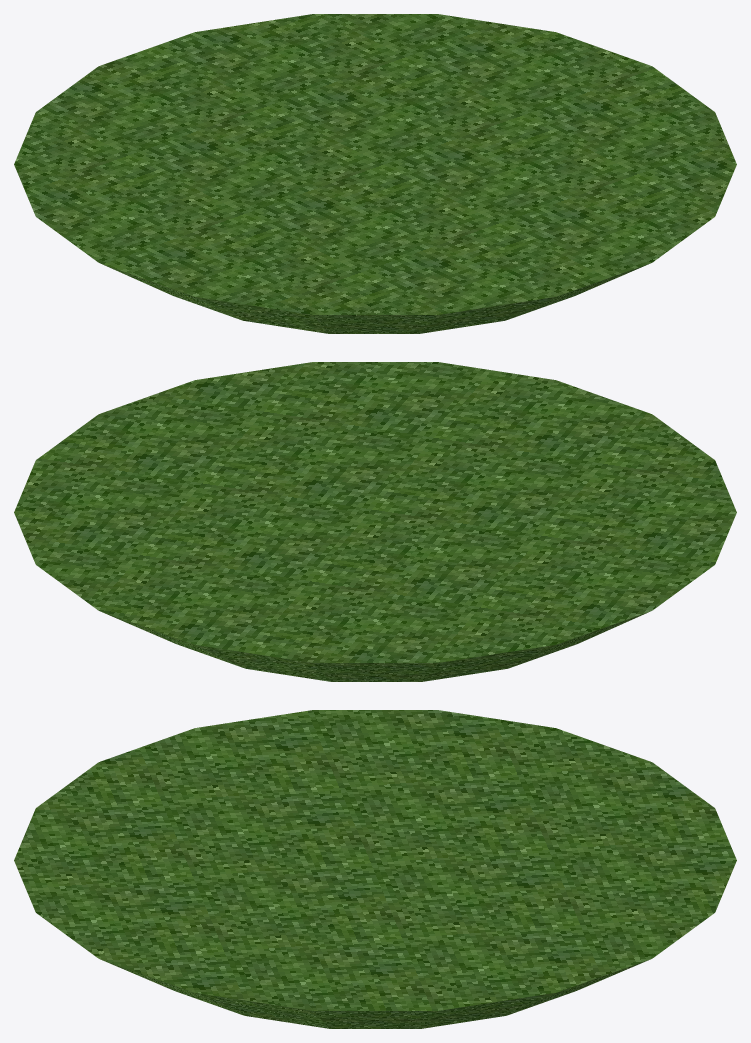
The model's file is grass.glb.
The picture shows the model from 3 angles, top to bottom: view 1: azimuth 30°, elevation 25°; view 2: azimuth 150°, elevation 25°; view 3: azimuth 270°, elevation 25°; orthographic projection.
Parts seen in each view (by area): view 1: entity1_brush0; view 2: entity1_brush0; view 3: entity1_brush0.
Part boxes in pixels (bbox=[...]): entity1_brush0: bbox=[14, 14, 736, 333]; entity1_brush0: bbox=[14, 362, 736, 681]; entity1_brush0: bbox=[14, 710, 736, 1028].
Size of the model in its own units: 5.38 by 0.5 by 5.46.
Materials: 1 (1 with a texture image).
